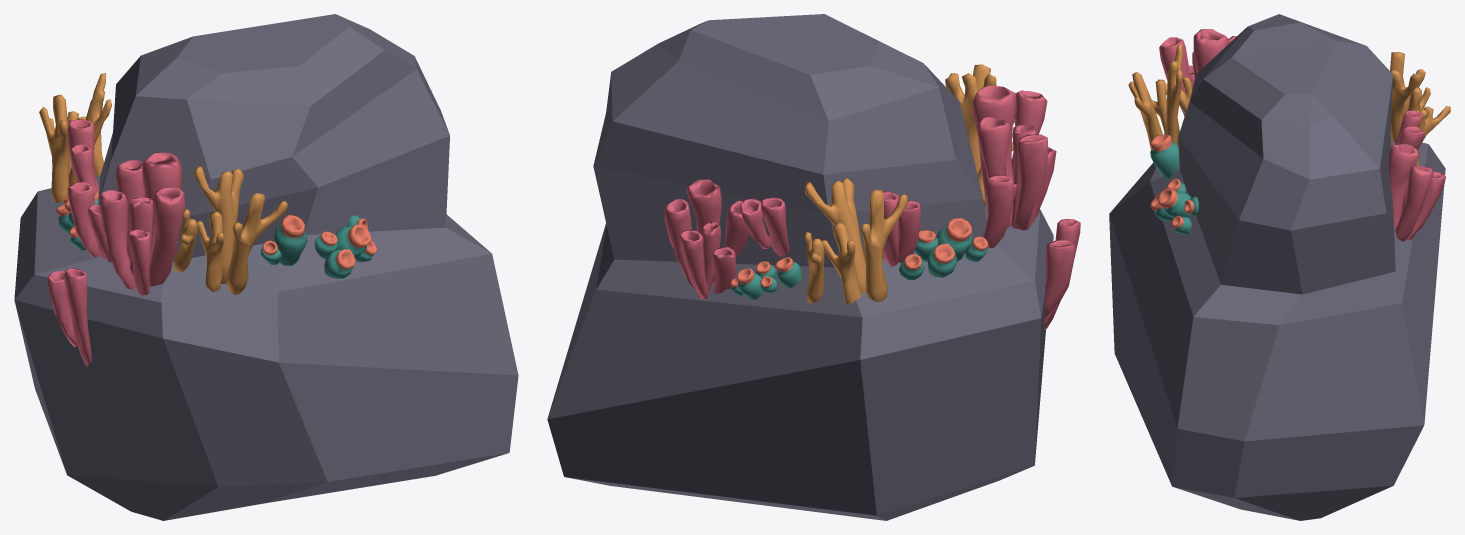
Rendered from Art_Coral_01_11_26_27.fbx.
3 views of the same model, side by side, from view 1: azimuth 30°, elevation 25°; view 2: azimuth 150°, elevation 25°; view 3: azimuth 270°, elevation 25° (orthographic). The views are drawn at different scales.
Visible parts, largest first — view 1: Rock_02, Coral_Pink_Bunch_01.001, Coral_Orange_Bunch_01.001, Coral_Orange_Bunch_01.002, Coral_Pink_Wall_01.001, Coral_Teal_Bunch_02.001, Coral_Pink_Bit_01.001, Coral_Pink_Bit_01.002, Coral_Teal_03.001, Coral_Teal_Bunch_02; view 2: Rock_02, Coral_Pink_Bunch_01.001, Coral_Orange_Bunch_01.002, Coral_Pink_Bunch_01.002, Coral_Teal_Bunch_02, Coral_Pink_Wall_01.001, Coral_Pink_Wall_01.004, Coral_Orange_Bunch_01.001, Coral_Pink_Bit_01.002, Coral_Pink_Bit_01.001, Coral_Teal_Bunch_02.002, Coral_Teal_03.003; view 3: Rock_02, Coral_Pink_Bunch_01.002, Coral_Orange_Bunch_01.001, Coral_Orange_Bunch_01.002, Coral_Pink_Bunch_01.001, Coral_Teal_Bunch_02.001, Coral_Teal_03.001, Coral_Pink_Wall_01.004.
Part boxes in pixels (x1,y1,x2,y2): Rock_02: [14, 14, 518, 520]; Coral_Pink_Bunch_01.001: [99, 152, 185, 295]; Coral_Orange_Bunch_01.001: [174, 166, 287, 295]; Coral_Orange_Bunch_01.002: [39, 73, 111, 202]; Coral_Pink_Wall_01.001: [47, 268, 91, 366]; Coral_Teal_Bunch_02.001: [314, 224, 377, 278]; Coral_Pink_Bit_01.001: [68, 182, 111, 262]; Coral_Pink_Bit_01.002: [67, 119, 99, 196]; Coral_Teal_03.001: [274, 214, 307, 265]; Coral_Teal_Bunch_02: [56, 191, 98, 250]; Rock_02: [547, 14, 1053, 520]; Coral_Pink_Bunch_01.001: [972, 85, 1056, 230]; Coral_Orange_Bunch_01.002: [804, 177, 907, 304]; Coral_Pink_Bunch_01.002: [664, 179, 749, 299]; Coral_Teal_Bunch_02: [914, 218, 988, 277]; Coral_Pink_Wall_01.001: [1044, 219, 1080, 329]; Coral_Pink_Wall_01.004: [739, 197, 789, 256]; Coral_Orange_Bunch_01.001: [945, 64, 1014, 206]; Coral_Pink_Bit_01.002: [883, 191, 920, 266]; Coral_Pink_Bit_01.001: [982, 175, 1017, 248]; Coral_Teal_Bunch_02.002: [730, 261, 777, 299]; Coral_Teal_03.003: [775, 257, 801, 287]; Rock_02: [1109, 14, 1445, 520]; Coral_Pink_Bunch_01.002: [1388, 144, 1445, 241]; Coral_Orange_Bunch_01.001: [1128, 43, 1192, 150]; Coral_Orange_Bunch_01.002: [1390, 52, 1450, 165]; Coral_Pink_Bunch_01.001: [1159, 29, 1236, 116]; Coral_Teal_Bunch_02.001: [1150, 179, 1191, 235]; Coral_Teal_03.001: [1150, 134, 1179, 179]; Coral_Pink_Wall_01.004: [1395, 110, 1425, 149].
Size of the model in its own units: 12597 by 12064 by 9439.
